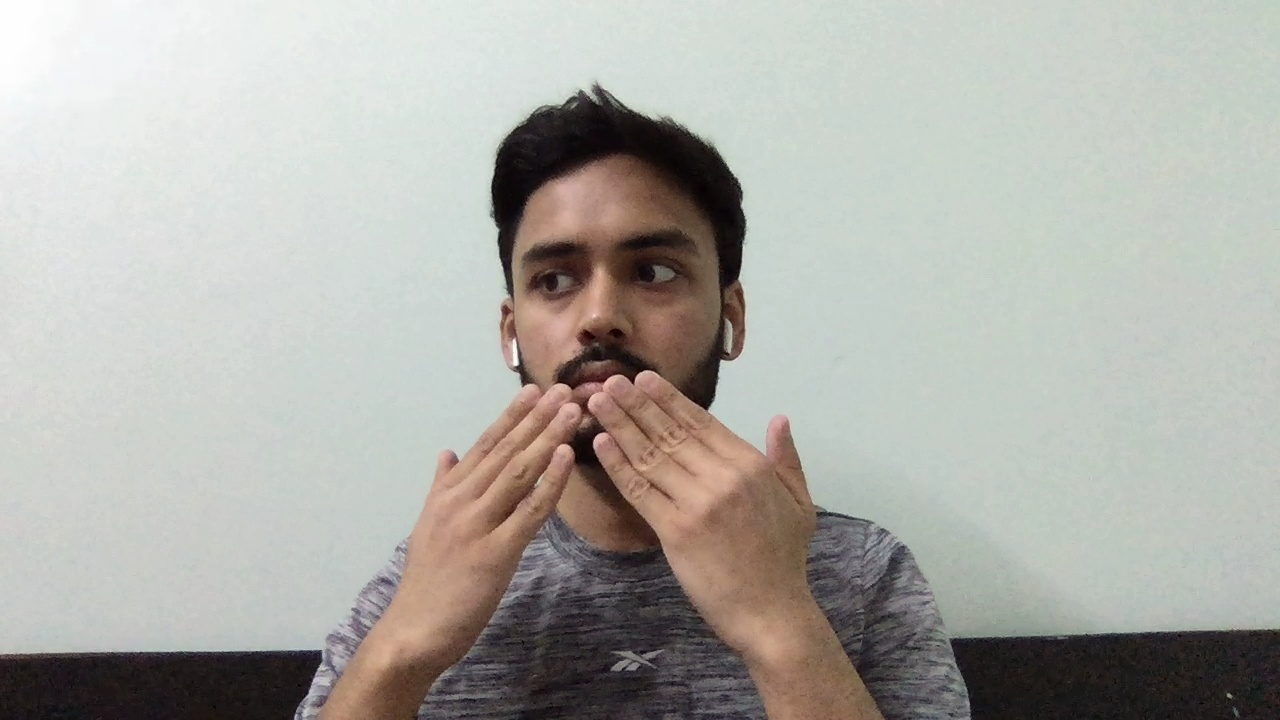Thank You: (378, 365, 852, 661)
